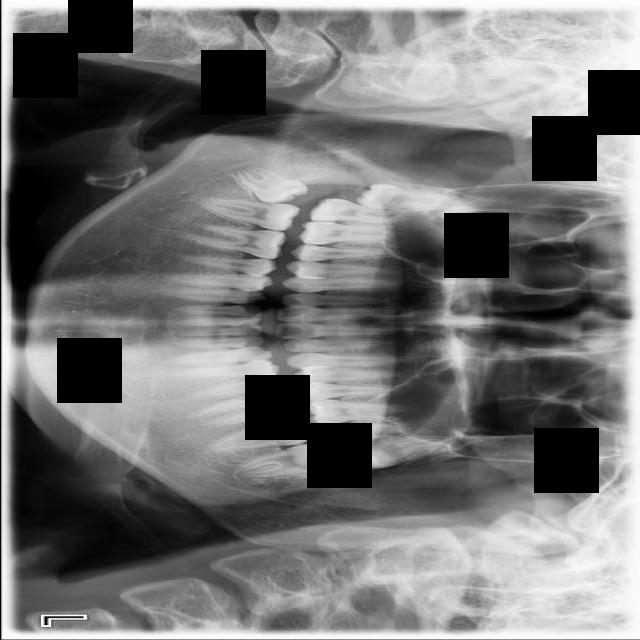3M ESPE Implant: (353, 181, 458, 215)
73: (52, 612, 66, 622)
BioHorizons Implant: (315, 417, 422, 451)
BioLife Implant: (347, 429, 453, 473)
Biomet 3i Implant: (234, 441, 330, 482)
Blue Sky Bio Implant: (205, 414, 312, 453)
Caries: (307, 197, 416, 226)
Implant: (202, 198, 301, 233)
Keystone Dental Implant: (228, 158, 311, 216)
